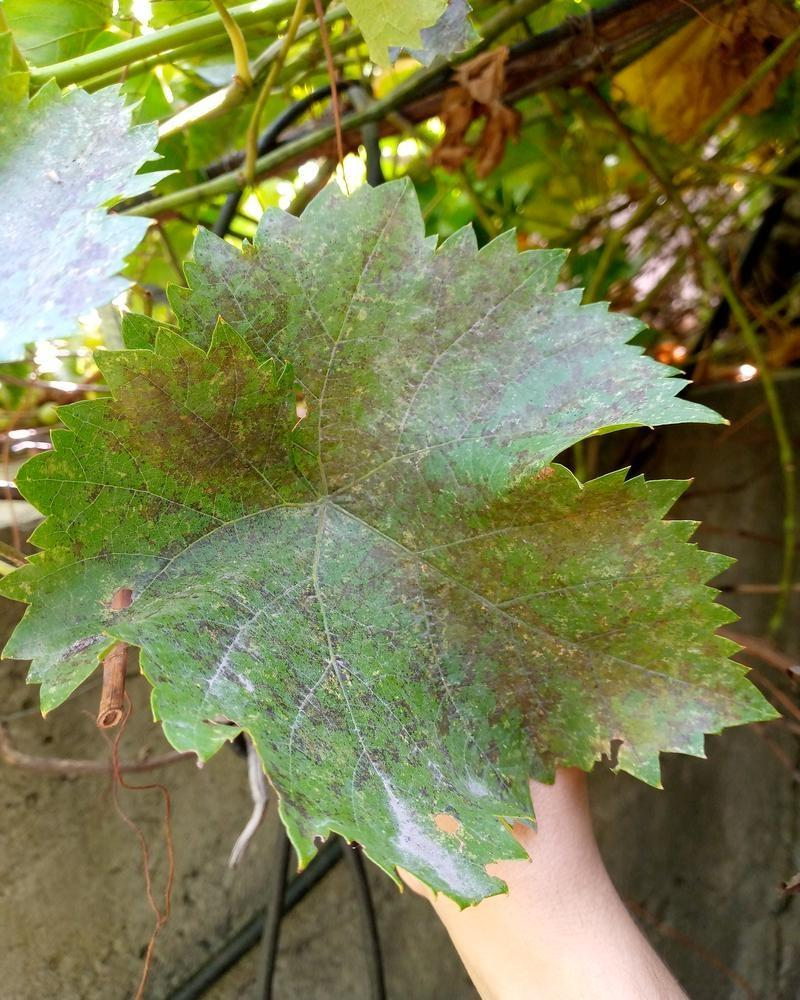Powdery-Mildew: (428, 285, 681, 483), (272, 181, 444, 302), (355, 776, 499, 905), (612, 688, 737, 785), (280, 384, 343, 447)
